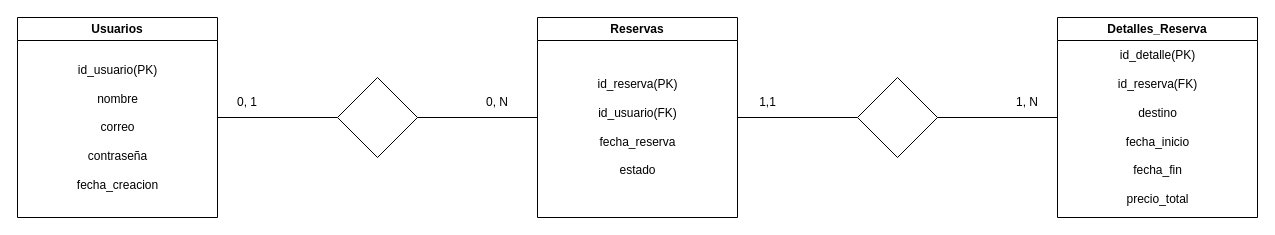
Some shapes in this 1275 by 235 pixel diagram are drawn without their labels. Each missing label, with the centre of its shape:
"realiza" belongs at (377,117).
"tiene" belongs at (897,117).
